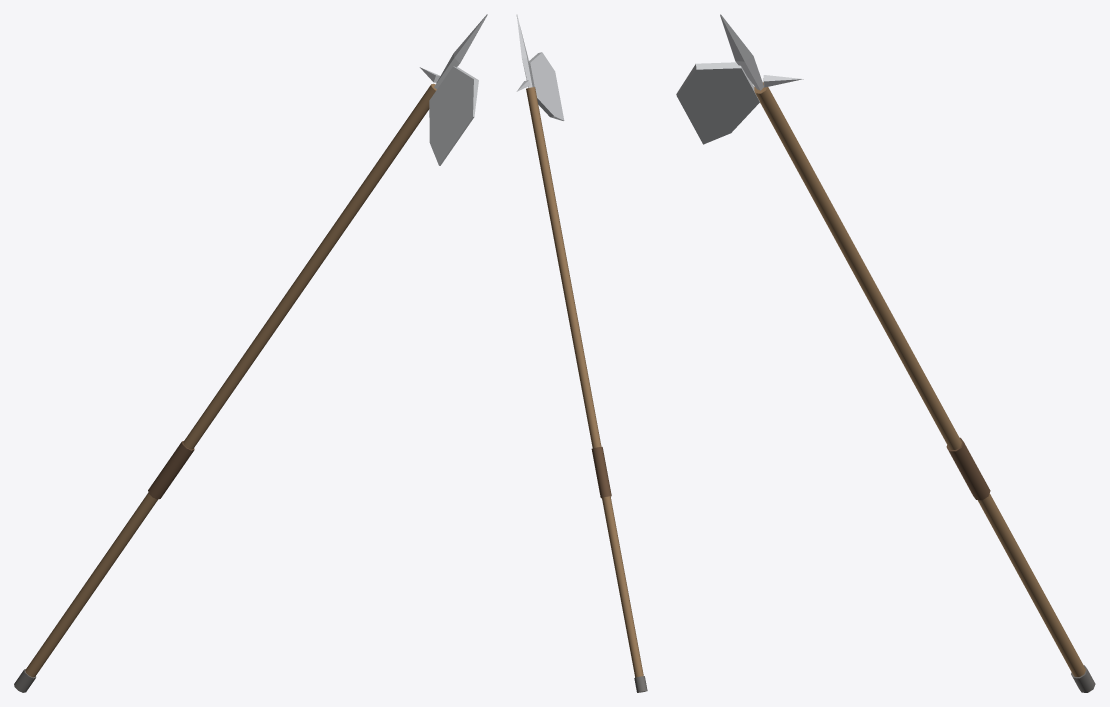
Rendered from wpn_halberd.glb.
The picture shows the model from 3 angles, left to right: view 1: azimuth 30°, elevation 25°; view 2: azimuth 150°, elevation 25°; view 3: azimuth 270°, elevation 25°; orthographic projection. The views are drawn at different scales.
Parts seen in each view (by area): view 1: wpn_halberd; view 2: wpn_halberd; view 3: wpn_halberd.
Boxes of the visible parts, x1=… form: wpn_halberd: x1=14, y1=14, x2=487, y2=692; wpn_halberd: x1=516, y1=14, x2=647, y2=692; wpn_halberd: x1=676, y1=14, x2=1095, y2=692.
Bounding box in the file's own units: 0.5614 × 1.18 × 0.5195.
